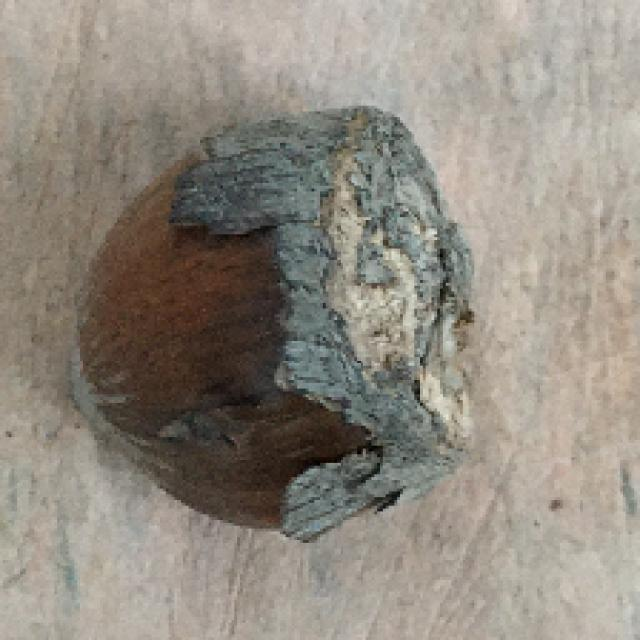damagedHazelnut: (63, 108, 480, 540)
